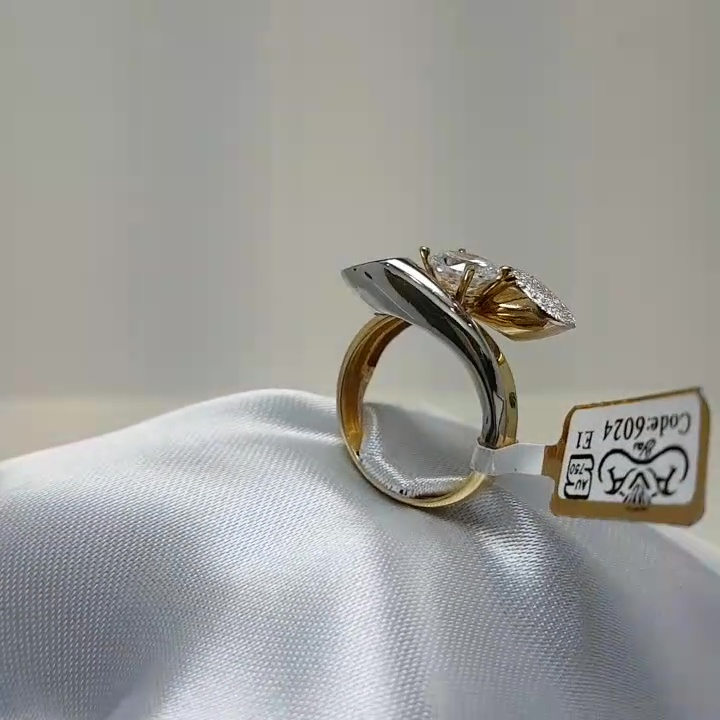Ring 7: (307, 235, 580, 533)
